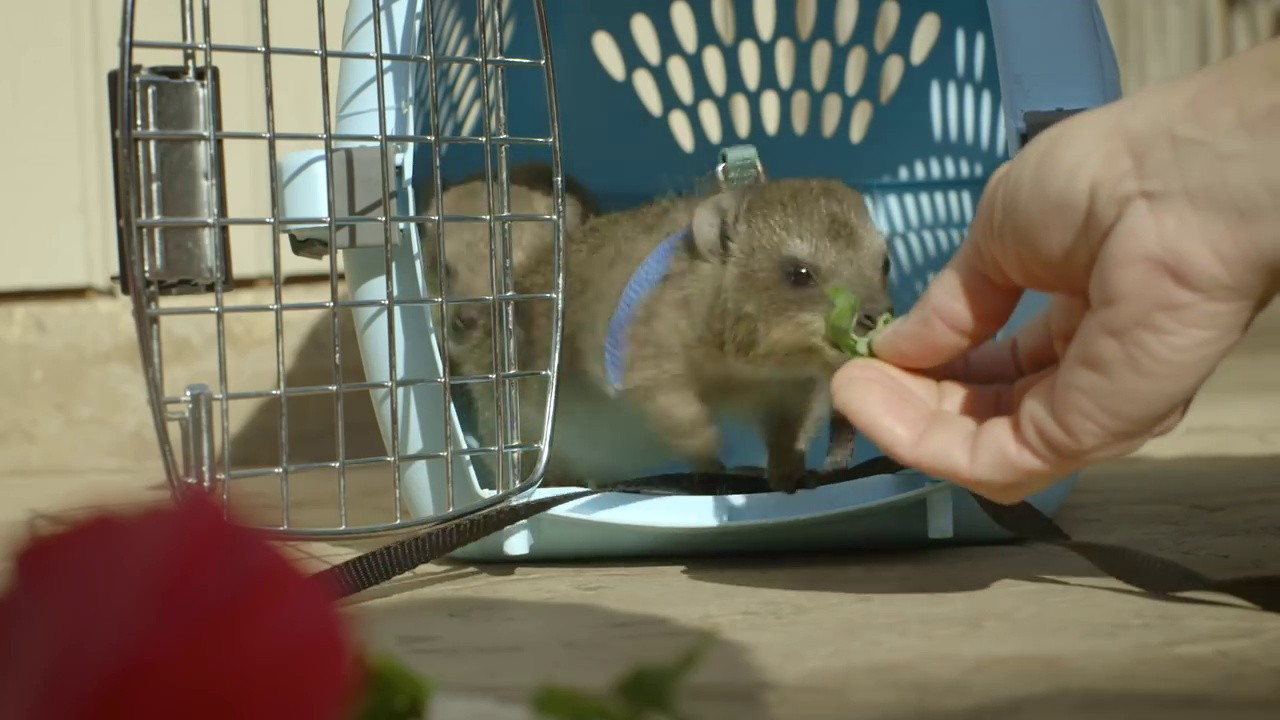Rock Hyrex: (492, 176, 893, 494), (409, 177, 580, 495)
